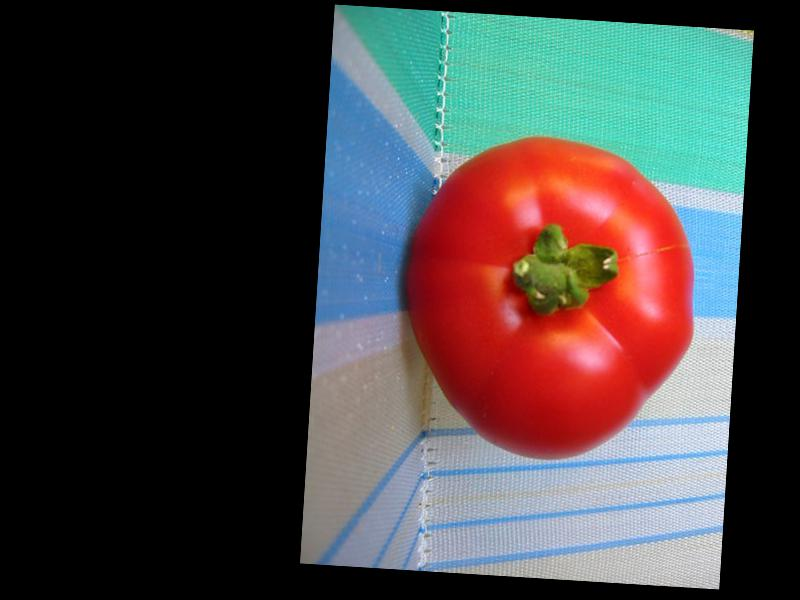Tomato: (394, 129, 704, 465)
